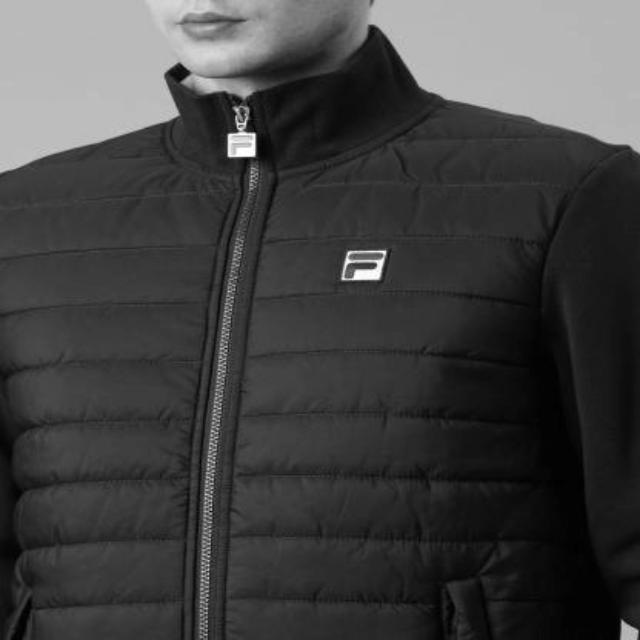FILA_original: (313, 238, 411, 302)
